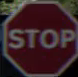Stop: (3, 4, 73, 67)
